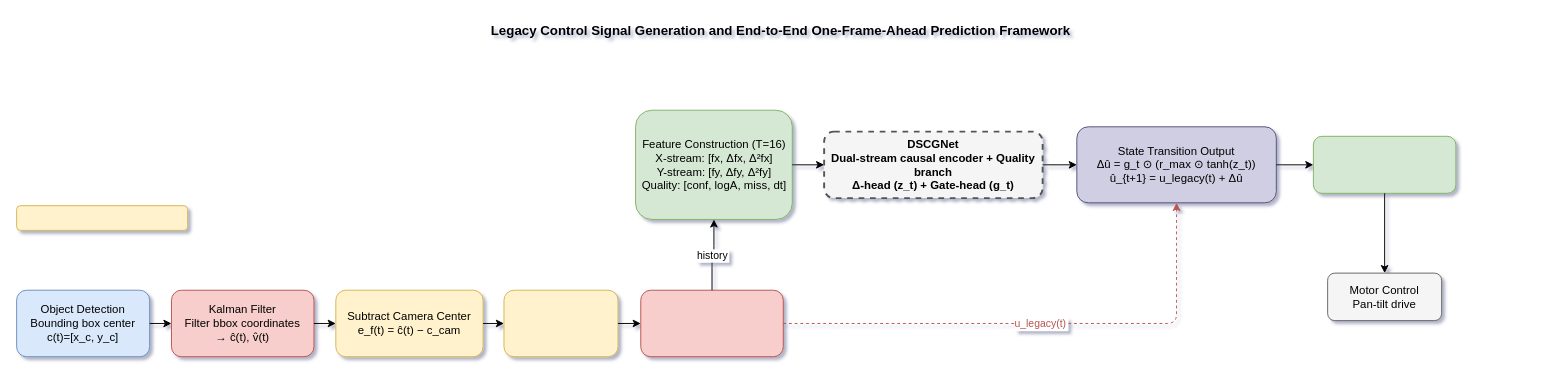
Some shapes in this 1563 by 379 pixel diagram are drawn without their labels. The shapes that lost their labels are listed below. From the top down, each one's centre as x and y in pixels, then its label:
(x=1384, y=164): Predicted Output û_{t+1} (pred_ux, pred_uy)
(x=102, y=217): ⚠ ~1-frame visual processing delay
(x=560, y=323): Step Clamp → ẽ(t)
(x=711, y=323): Low-Pass Filter u_legacy(t) [first_filter_dx/dy]
